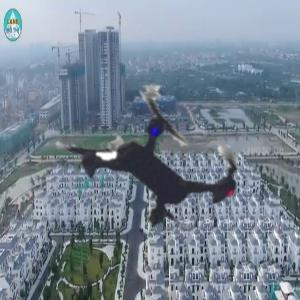drone: (21, 24, 296, 299)
